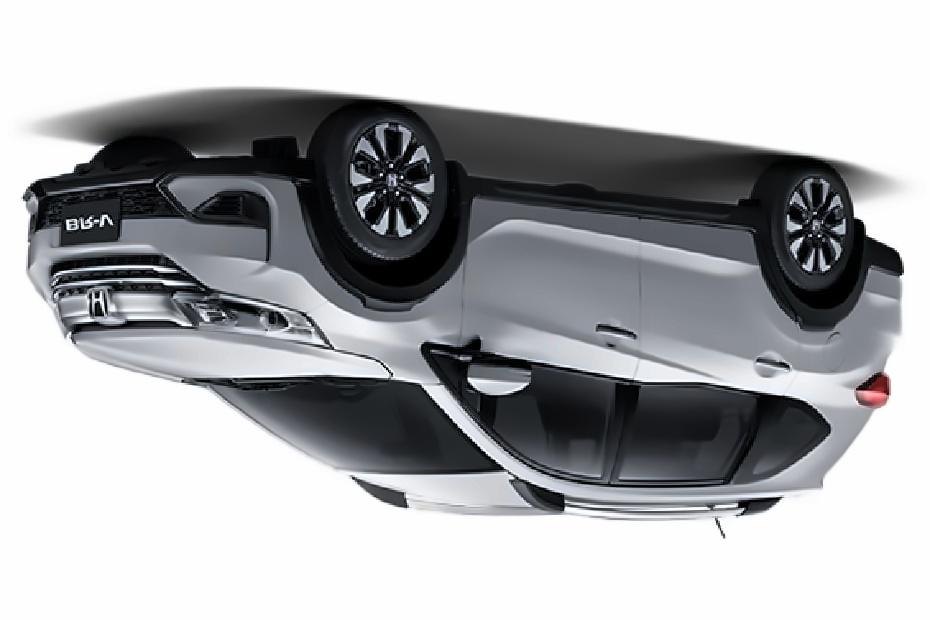Car hood: (68, 328, 396, 392)
Driver-s door - -F-R-: (446, 154, 649, 527)
Fender - -F-R-: (299, 200, 468, 382)
Fender - -R-R-: (725, 216, 879, 446)
Front bumper: (19, 157, 321, 304)
Headlight - -R-: (169, 286, 332, 351)
Passenger-s door - -R-R-: (594, 157, 782, 540)
Rear bumper: (836, 217, 909, 339)
Rear light - -R-: (855, 369, 893, 407)
Side bumper - -R-: (444, 149, 779, 293)
Side mirror - -R-: (430, 339, 534, 397)
